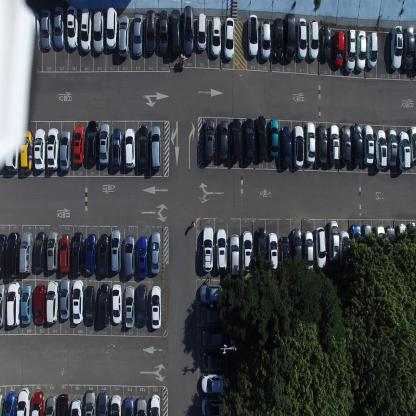car: (4, 231, 21, 279), (6, 280, 20, 327), (201, 225, 214, 273), (182, 4, 194, 56), (18, 232, 33, 273), (215, 226, 228, 273), (390, 24, 403, 71), (284, 12, 296, 62), (6, 132, 20, 174), (66, 5, 79, 50), (20, 129, 33, 174), (243, 116, 255, 164), (137, 124, 149, 172), (71, 231, 84, 275), (46, 280, 59, 324), (20, 282, 33, 326), (86, 119, 98, 166), (46, 127, 59, 170), (255, 114, 267, 160), (403, 26, 415, 72), (247, 12, 259, 58), (150, 284, 162, 330), (110, 228, 122, 274), (72, 279, 84, 325), (200, 305, 226, 326), (374, 128, 387, 170), (33, 128, 46, 170), (59, 128, 72, 170), (46, 230, 59, 272), (304, 120, 316, 165), (106, 6, 118, 51), (98, 282, 110, 327), (72, 124, 85, 165), (34, 231, 47, 272), (279, 234, 291, 278), (118, 14, 130, 58), (80, 8, 92, 52), (53, 6, 65, 50), (136, 283, 148, 327), (98, 233, 110, 277), (397, 130, 410, 170), (351, 122, 363, 165), (272, 18, 284, 61), (210, 15, 222, 58), (28, 11, 40, 54), (98, 122, 110, 165), (85, 232, 97, 275), (59, 277, 71, 320), (230, 116, 241, 162), (199, 283, 223, 304), (201, 372, 225, 393), (316, 124, 328, 166), (307, 19, 319, 61), (111, 283, 123, 325), (170, 8, 180, 58), (344, 28, 355, 73), (132, 13, 143, 58), (150, 125, 161, 170), (150, 230, 161, 275), (349, 222, 361, 263), (260, 18, 272, 59), (40, 8, 52, 49), (328, 219, 339, 263), (256, 226, 267, 270), (242, 230, 253, 274), (229, 232, 240, 276), (293, 124, 304, 168), (204, 118, 215, 162), (296, 18, 307, 62), (145, 10, 156, 54), (93, 10, 104, 54), (111, 127, 122, 171), (124, 285, 135, 329), (124, 233, 135, 277), (361, 223, 373, 263), (386, 127, 398, 167), (328, 124, 340, 164), (33, 284, 45, 324), (201, 329, 226, 348), (315, 226, 326, 269), (291, 227, 302, 270), (158, 9, 168, 56), (281, 125, 292, 167), (124, 127, 135, 169), (59, 232, 70, 274), (373, 225, 385, 263), (201, 396, 225, 415), (339, 229, 350, 270), (363, 124, 374, 165), (340, 125, 351, 166), (85, 285, 96, 326), (201, 352, 226, 370), (224, 16, 234, 61), (138, 234, 148, 279), (366, 31, 378, 68), (268, 118, 279, 158), (218, 120, 228, 164), (196, 12, 207, 52), (304, 230, 314, 273), (396, 222, 407, 261), (385, 225, 396, 264), (267, 232, 278, 270), (320, 23, 331, 61), (356, 30, 366, 71), (334, 28, 344, 68), (17, 386, 30, 416), (406, 222, 416, 259), (30, 390, 44, 415), (3, 391, 17, 416), (84, 389, 97, 415), (0, 233, 7, 280), (408, 125, 416, 166), (97, 390, 109, 415), (0, 282, 6, 328), (57, 393, 69, 415), (110, 393, 121, 415), (46, 394, 57, 415), (123, 396, 135, 415), (0, 136, 6, 173), (70, 397, 82, 415), (150, 394, 160, 415), (136, 396, 147, 415), (0, 393, 4, 415)
